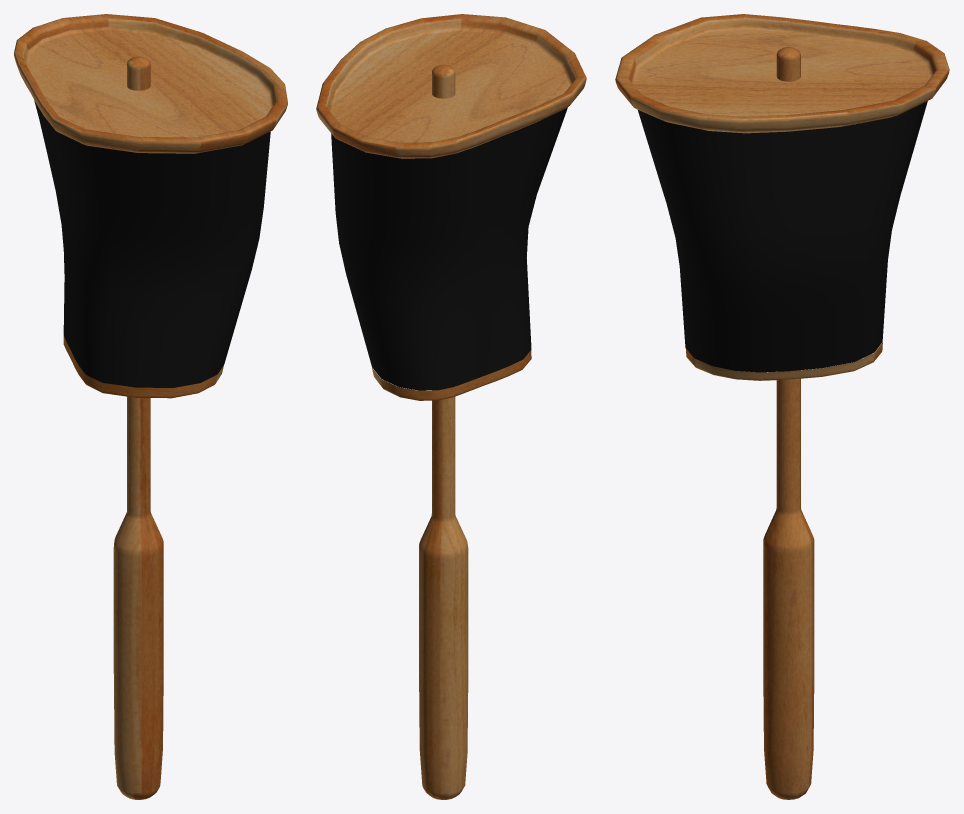
Rendered from intrument-horn-rattle.glb.
3 renders of one model, left to right at view 1: azimuth 30°, elevation 25°; view 2: azimuth 150°, elevation 25°; view 3: azimuth 270°, elevation 25°, orthographic. The views are drawn at different scales.
Parts seen in each view (by area): view 1: instrument_horn_rattle (×2); view 2: instrument_horn_rattle (×2); view 3: instrument_horn_rattle (×2).
Boxes of the visible parts, x1,y1,x2,y2 form: instrument_horn_rattle (×2): (14, 14, 287, 799); instrument_horn_rattle (×2): (316, 14, 586, 799); instrument_horn_rattle (×2): (615, 14, 949, 799).
Bounding box in the file's own units: 0.4336 × 1.42 × 0.5741.
2 materials, 2 textured.
